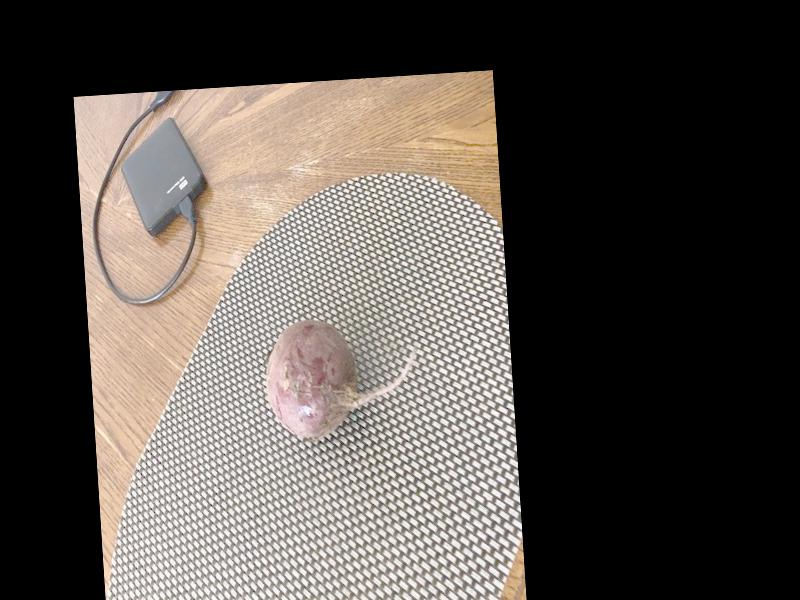Beet: (263, 314, 422, 440)
